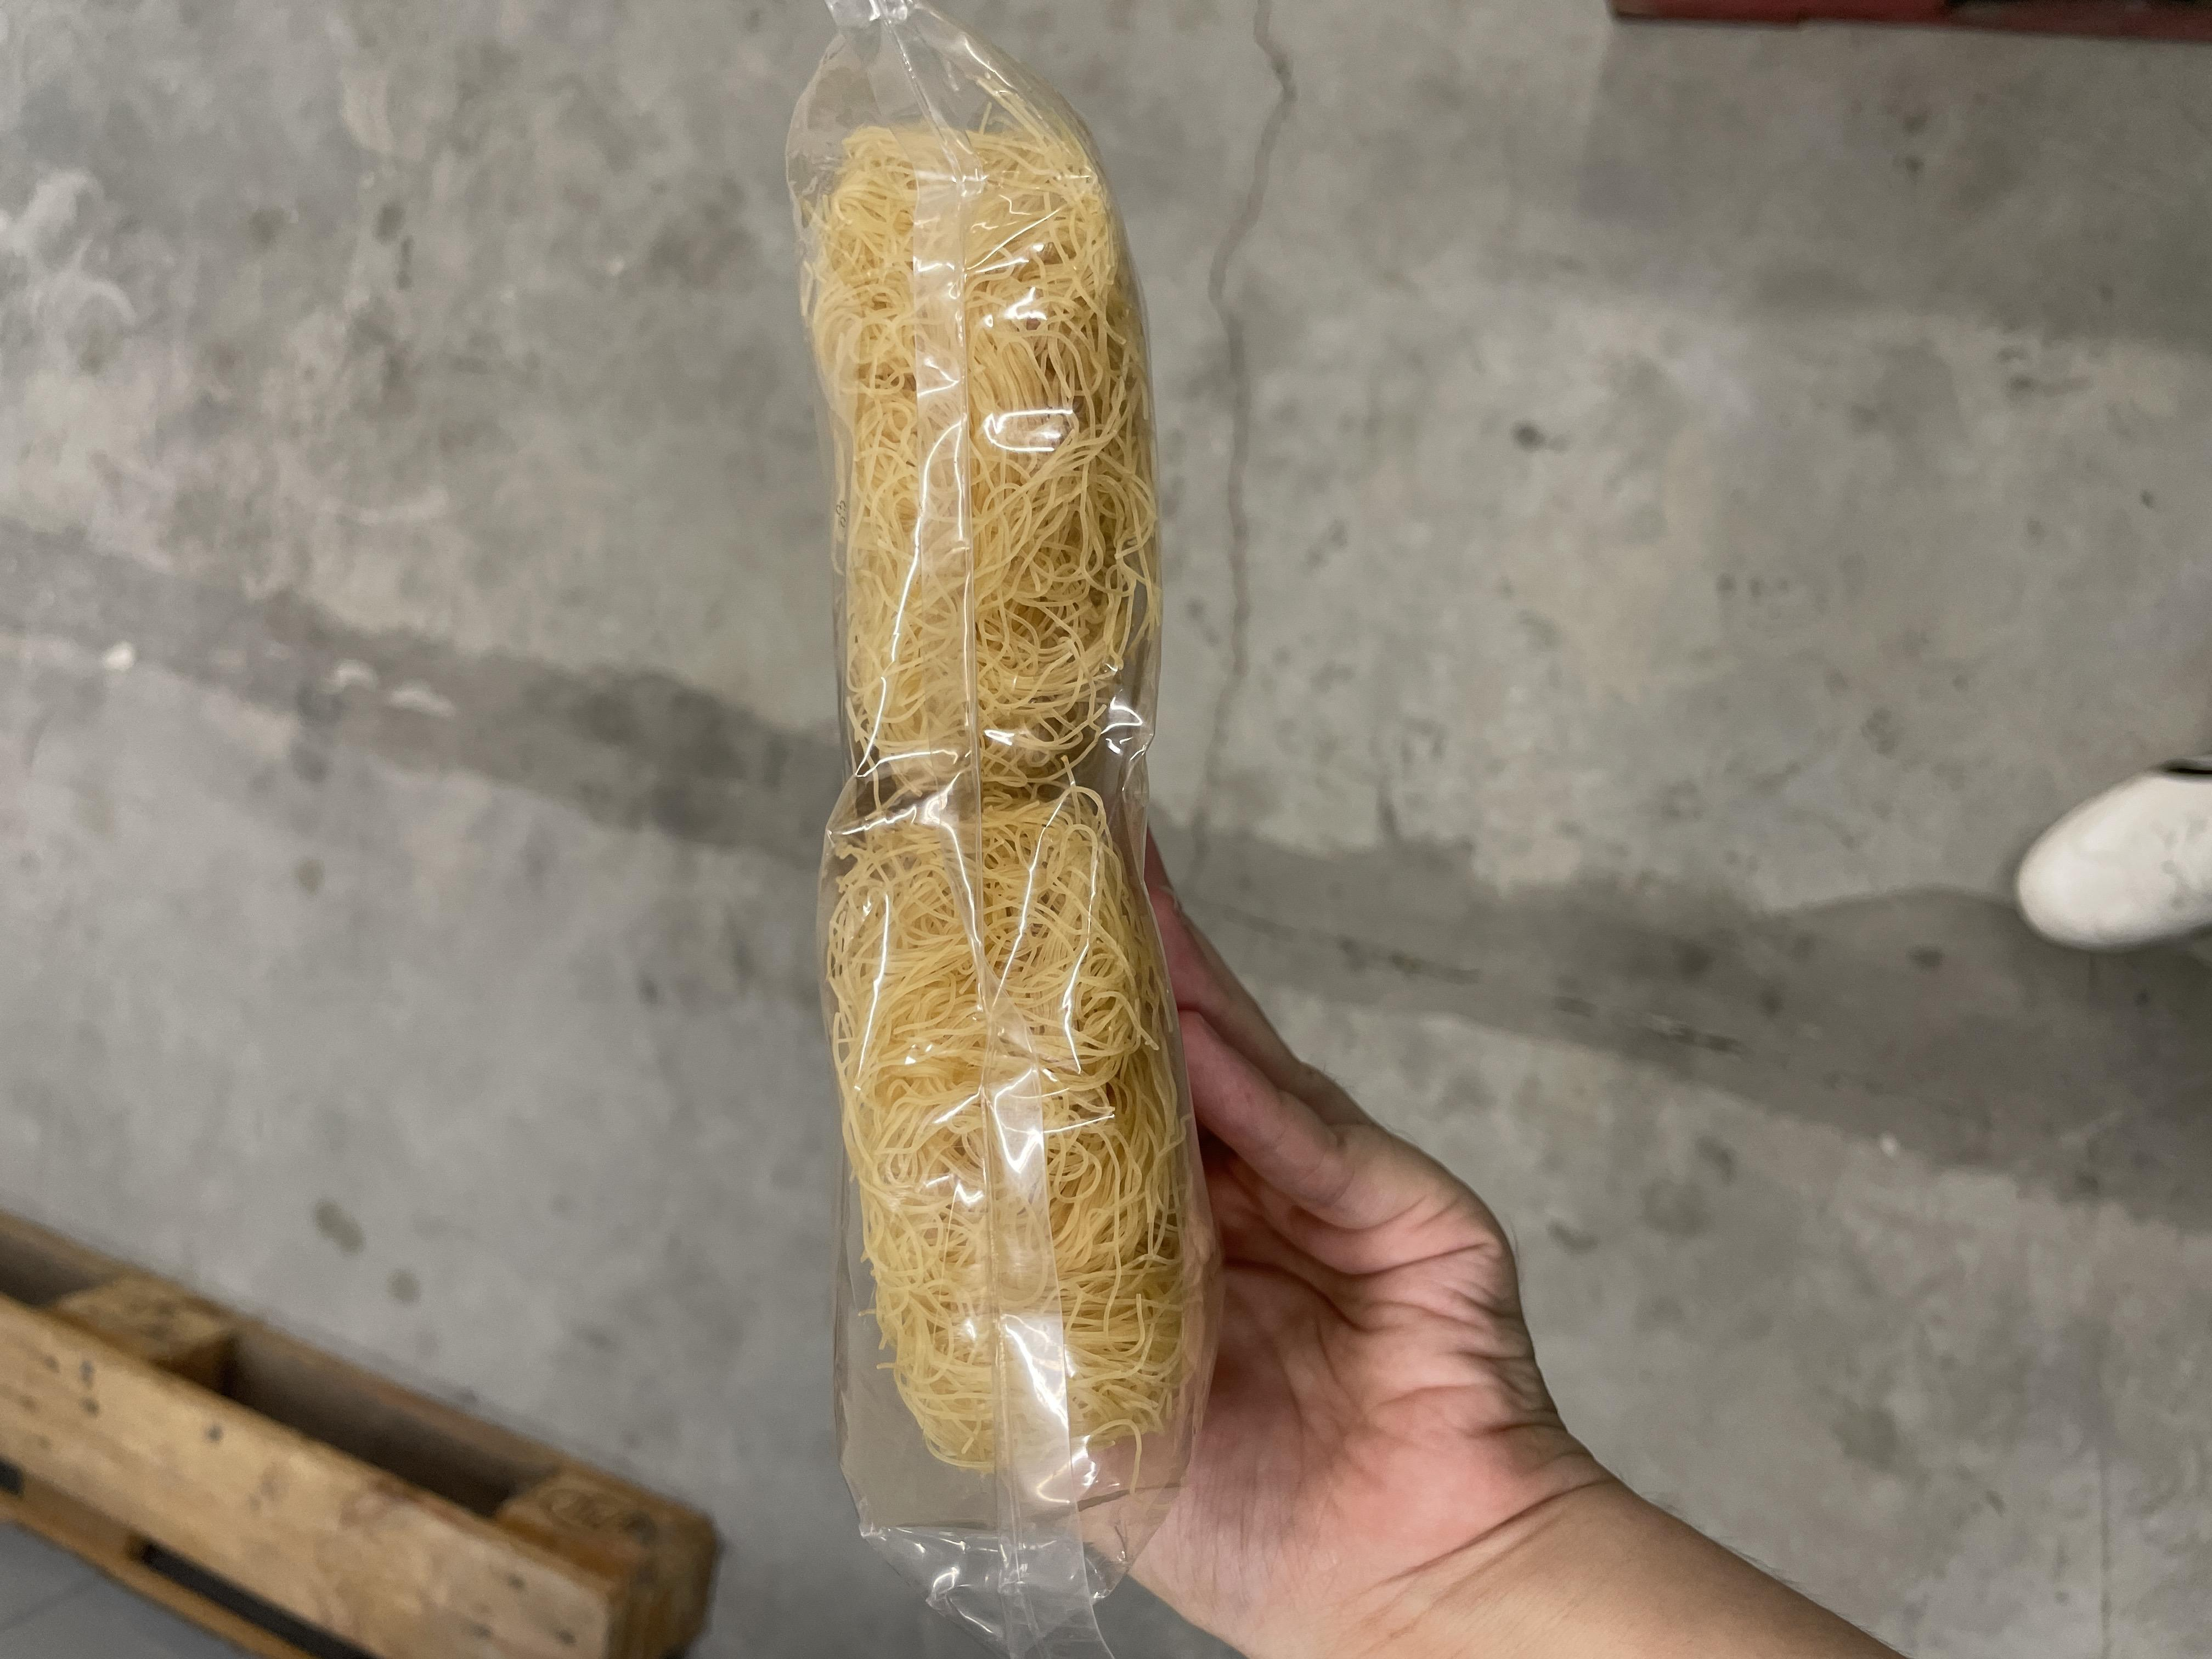object_name: (120, 828, 1541, 1141)
